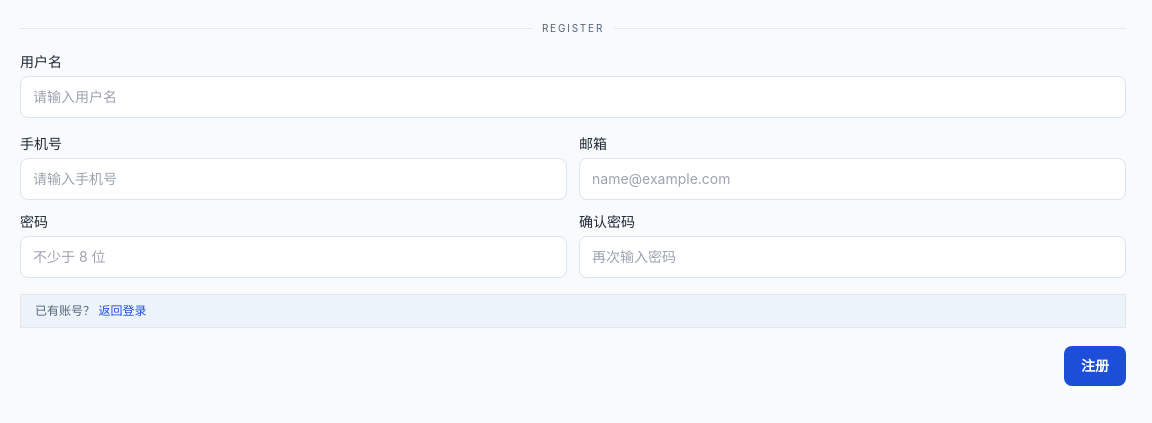
it: AuthRegisterForm async lifecycle › validates local fields before sending an availability request: {"password":"short","confirmPassword":"short"}
Type "register_user" into the field with id "auth-register-username" at (573, 97), box left=20, top=76, right=1126, bottom=118
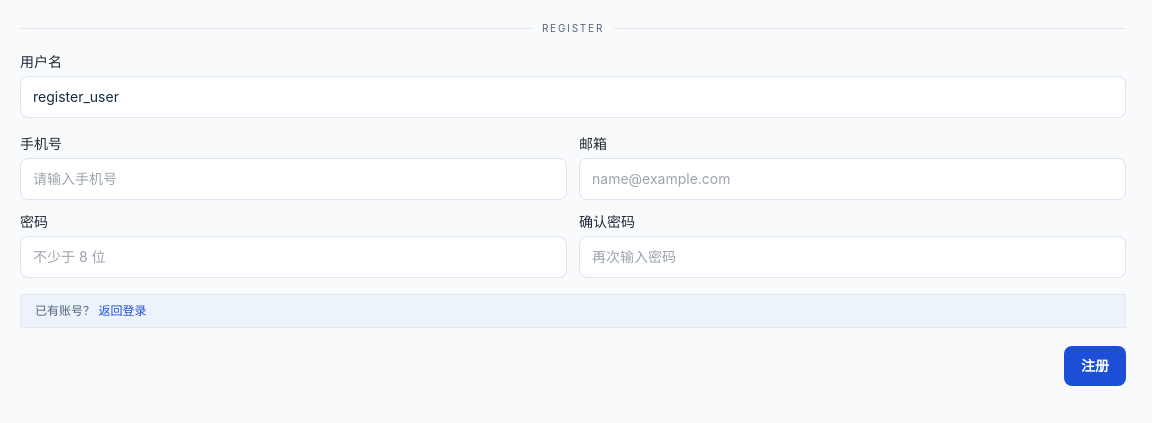
Type "13800000000" into the field with id "auth-register-phone" at (294, 179), box left=20, top=158, right=567, bottom=200
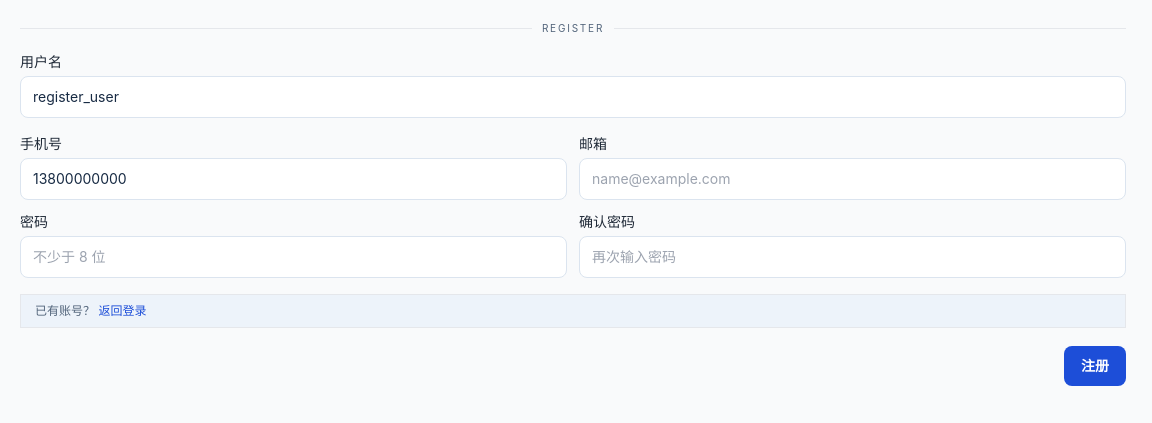
Type "register@example.com" into the field with id "auth-register-email" at (852, 179), box left=579, top=158, right=1126, bottom=200
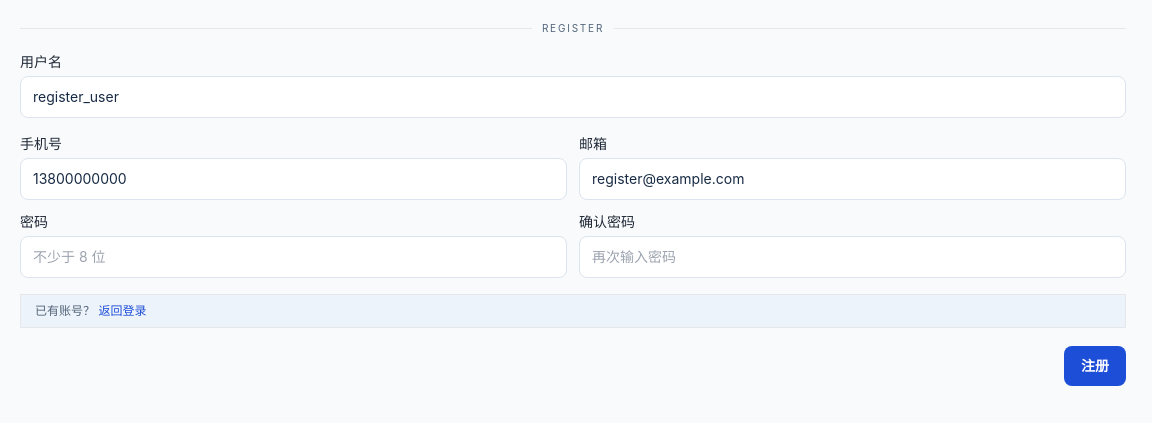
Type "short" into the password field with id "auth-register-password" at (294, 257), box left=20, top=236, right=567, bottom=278
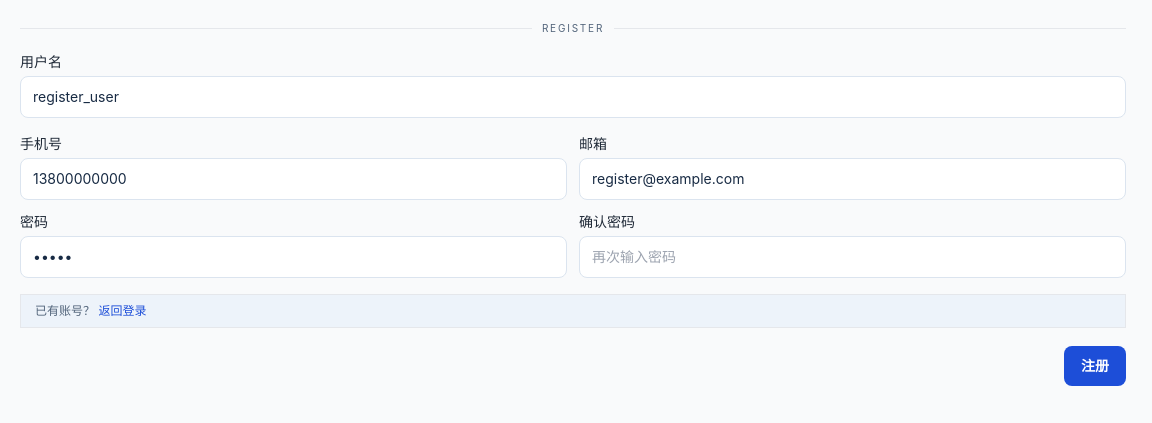
Type "short" into the password field with id "auth-register-confirm-password" at (852, 257), box left=579, top=236, right=1126, bottom=278
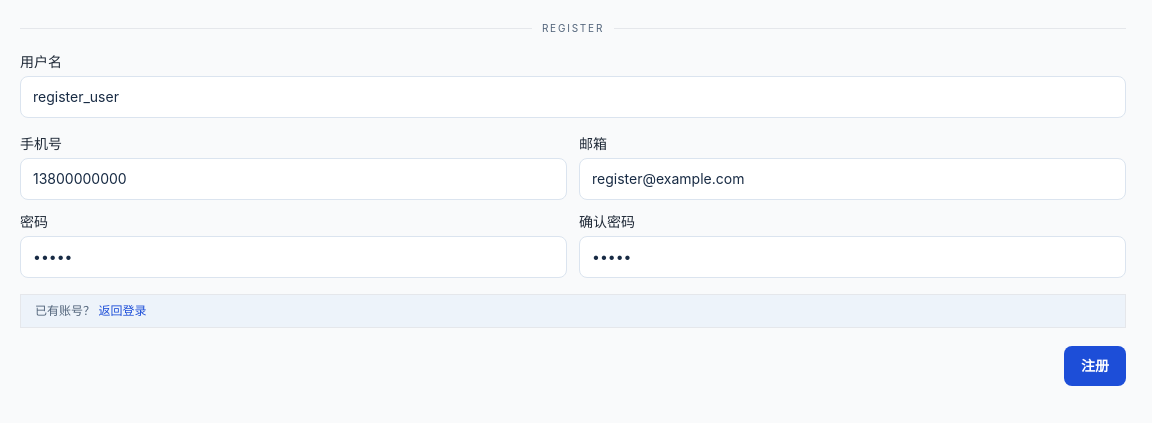
Submit the form
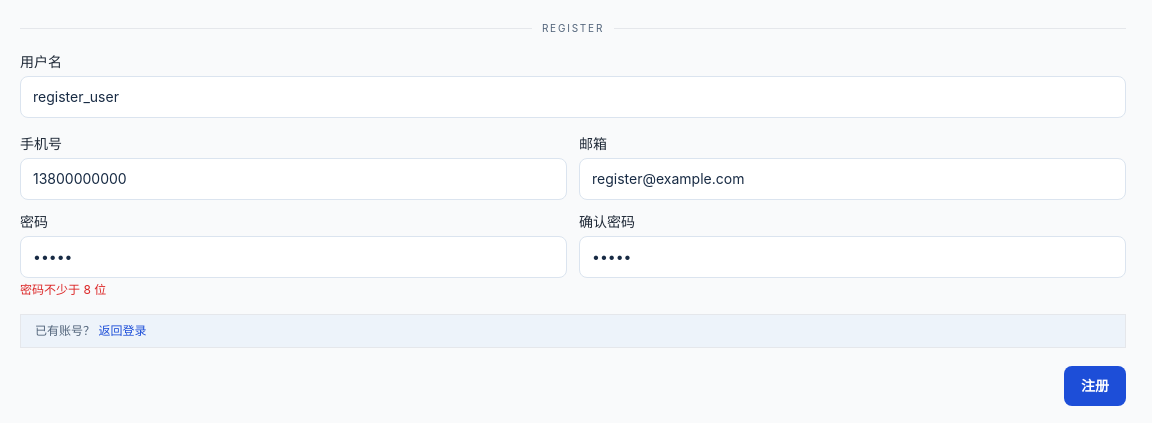
Now the message "密码不少于 8 位" is shown, box left=20, top=282, right=106, bottom=297
